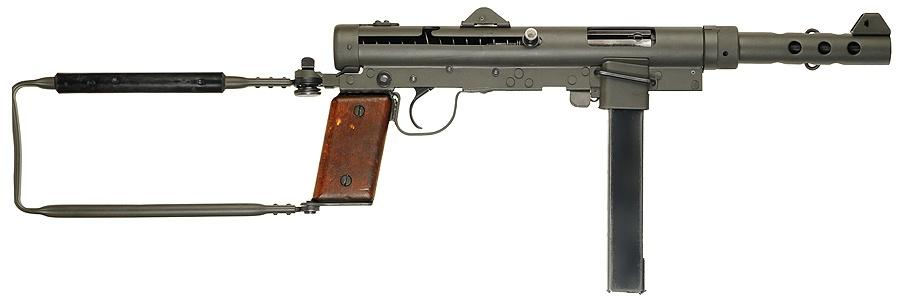blood: (2, 0, 895, 306)
